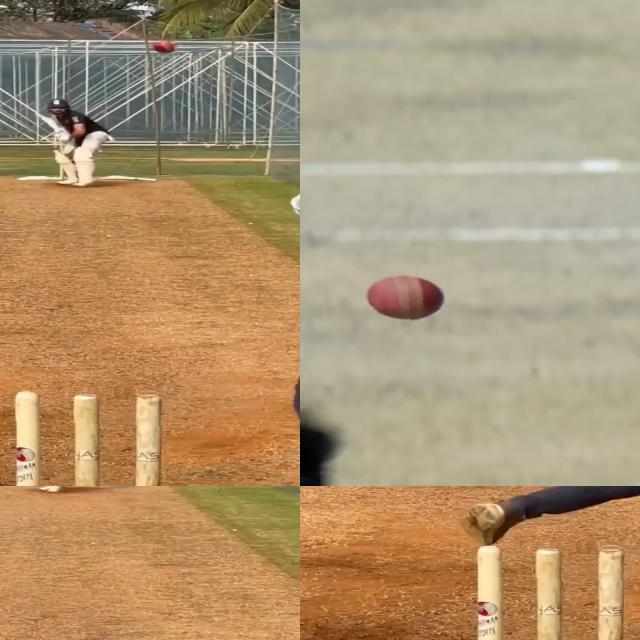Cricket ball: (359, 271, 451, 321), (153, 40, 175, 54)
Stumps: (13, 387, 165, 486), (478, 542, 624, 640)
